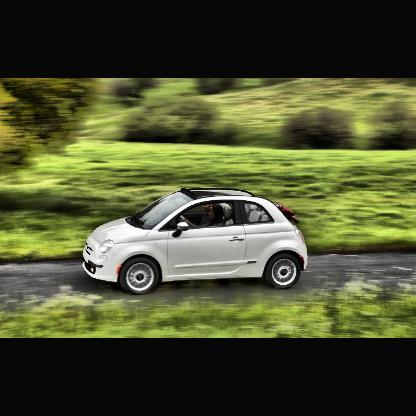FIAT 500 Convertible 2012: (83, 189, 309, 297)
